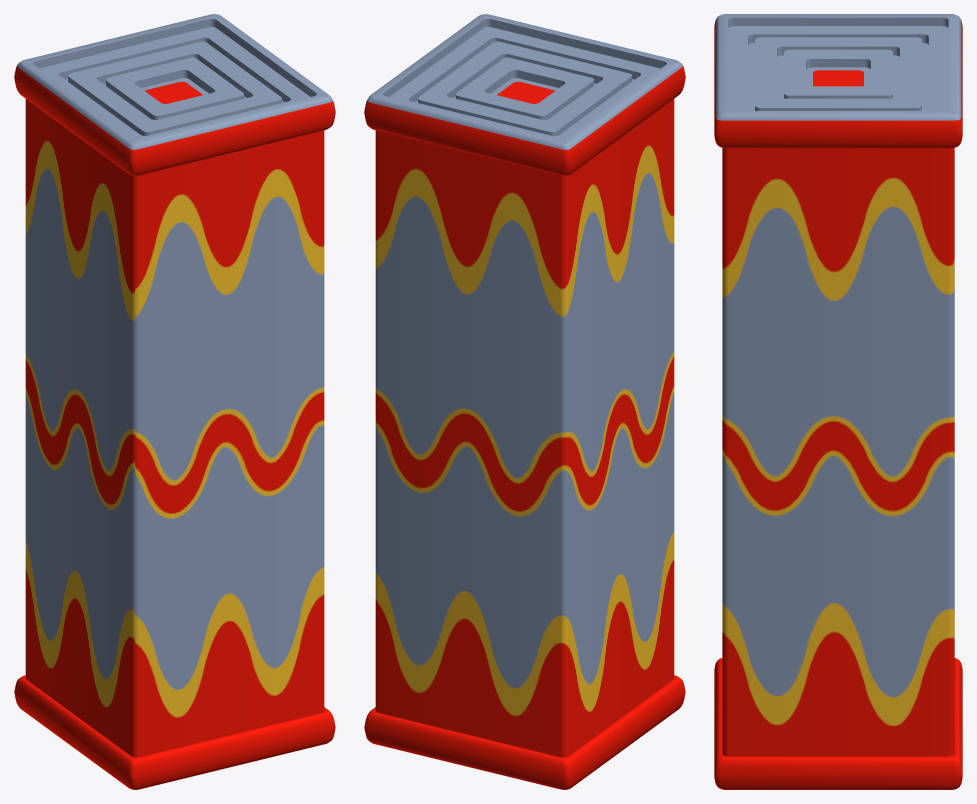
The model's file is CarnivalTinBox(3x1)(V1).fbx.
3 views of the same model, side by side, from view 1: azimuth 30°, elevation 25°; view 2: azimuth 150°, elevation 25°; view 3: azimuth 270°, elevation 25° (orthographic). The views are drawn at different scales.
Visible parts, largest first — view 1: 1x3; view 2: 1x3; view 3: 1x3.
Boxes of the visible parts, box(x1,y1,x2,y2) form: 1x3: box(14, 14, 335, 789); 1x3: box(364, 14, 685, 789); 1x3: box(714, 14, 962, 789).
Bounding box in the file's own units: 2 × 6 × 2.
Materials: 2 (2 with a texture image).
